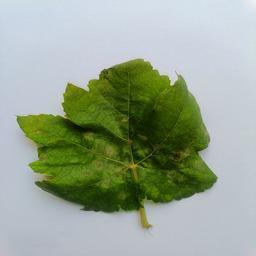Powdery-Mildew: (56, 141, 114, 184), (132, 73, 167, 102), (24, 116, 55, 140), (186, 157, 208, 180), (149, 184, 161, 197)
